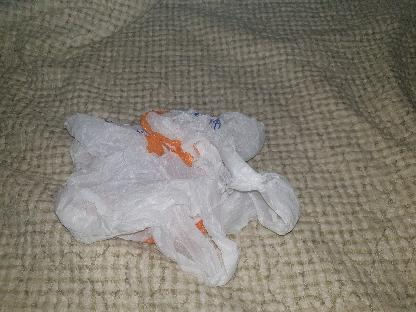Plastic Bag: (55, 108, 300, 288)
